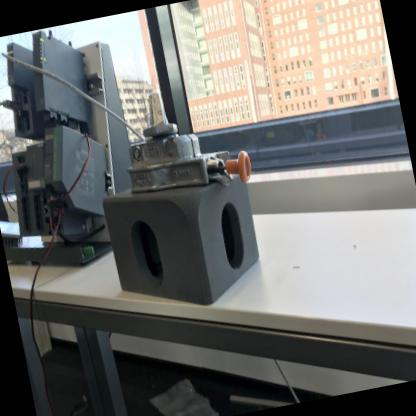CornerCasting: (98, 158, 271, 326)
Twistlock: (108, 72, 256, 204)
